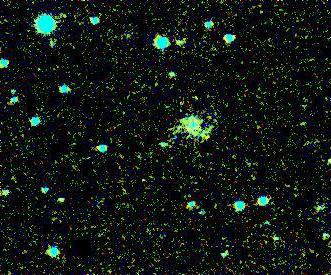star: (195, 124, 225, 154)
